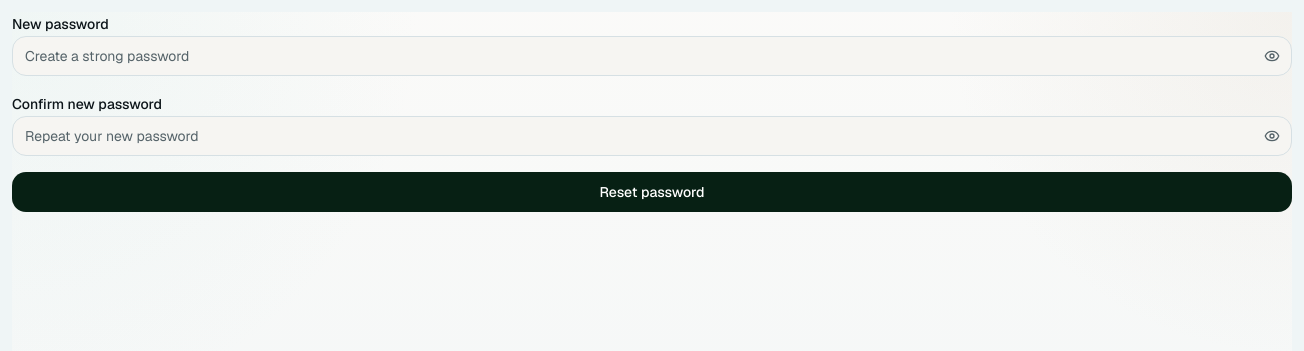
Scenario: Reset password form — auto-redirect to login › shows a countdown message after successful password reset
The width and height of the screenshot is (1304, 351).
Type "NewPassword123!" into the password field with placeholder "Create a strong password".
click(652, 56); type("NewPassword123!")  # box [12, 36, 1292, 76]
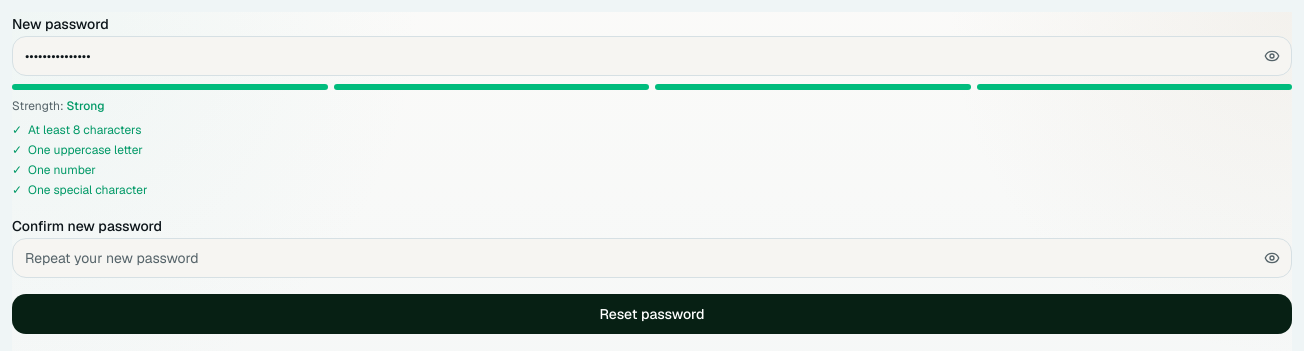
Type "NewPassword123!" into the password field with placeholder "Repeat your new password".
click(652, 258); type("NewPassword123!")  # box [12, 238, 1292, 278]
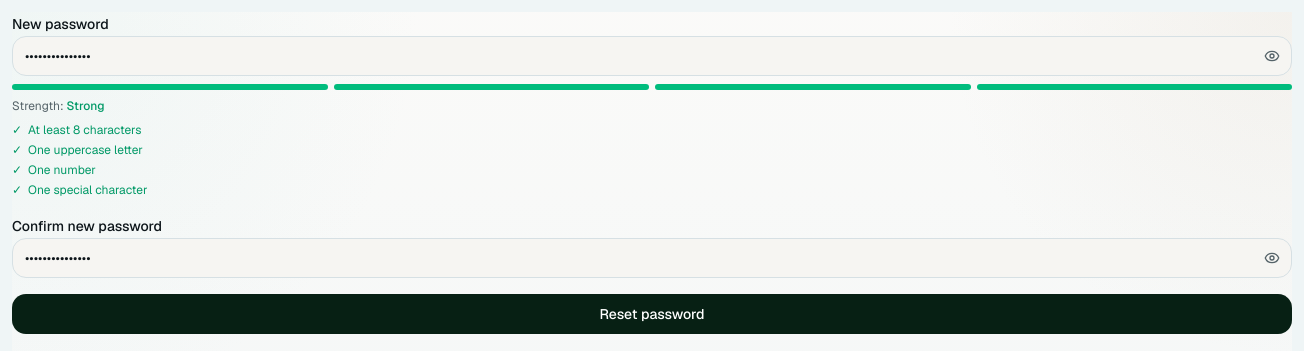
Submit the form
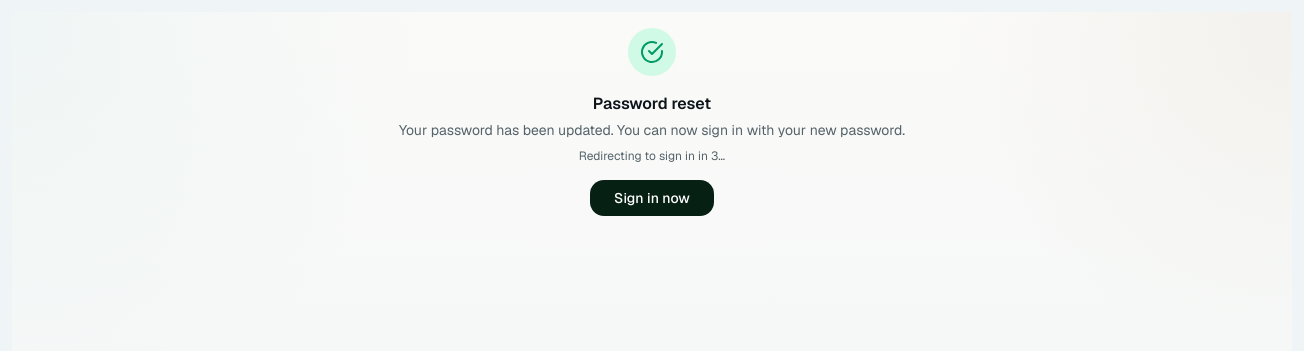
Check: the text "Redirecting to sign in in 3…" is shown, box [579, 148, 725, 164]
